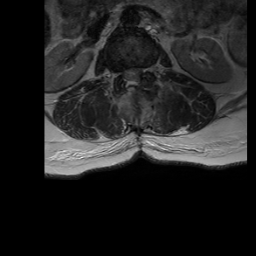CCS_normal: (128, 58, 135, 90)
LFS_stenosis: (142, 57, 150, 80)
LLS_normal: (135, 58, 142, 85)
RFS_stenosis: (115, 60, 121, 83)
RLS_normal: (121, 59, 128, 88)
